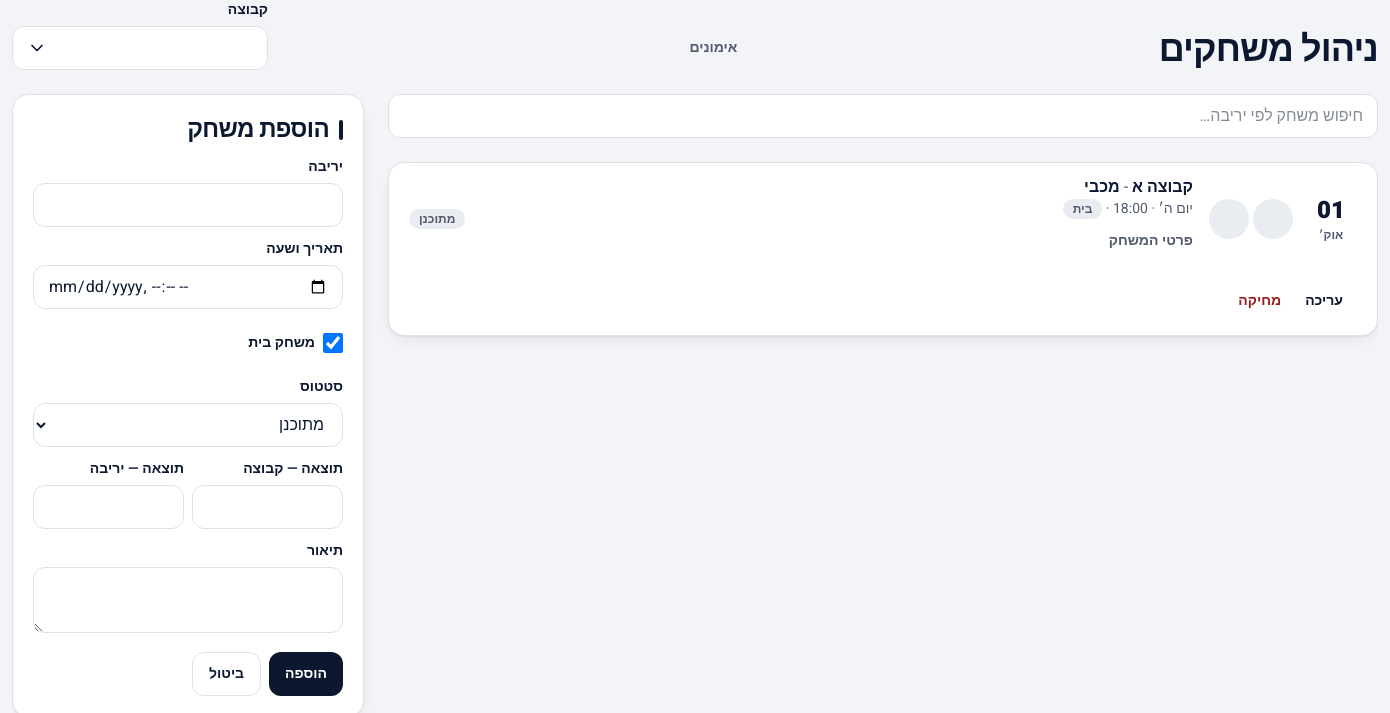
Test case: AdminGamesView › clicking edit, changing a field and submitting PATCHes and updates the list
Click the button "עריכה" at [1324, 301], box [1295,279,1353,323]
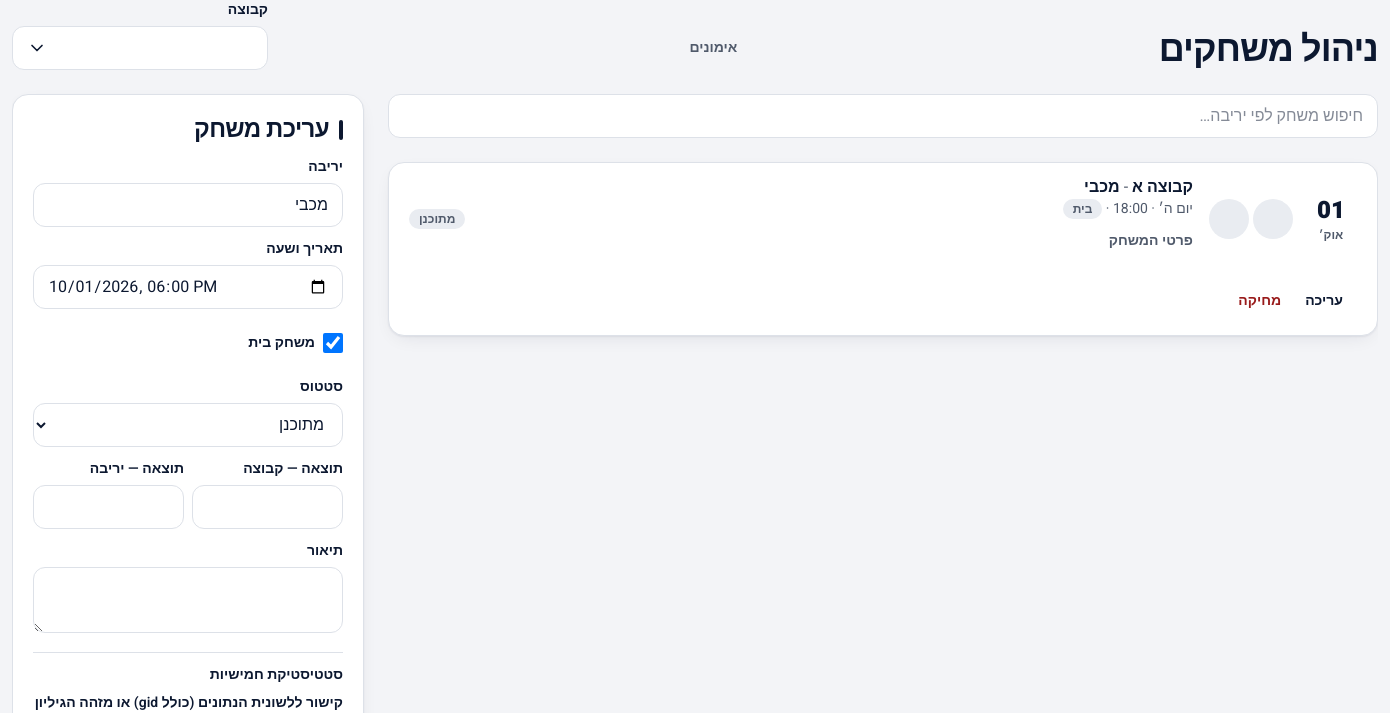
Select "הסתיים" in the dropdown with id "game-status" at [188, 425], box [33,403,343,447]
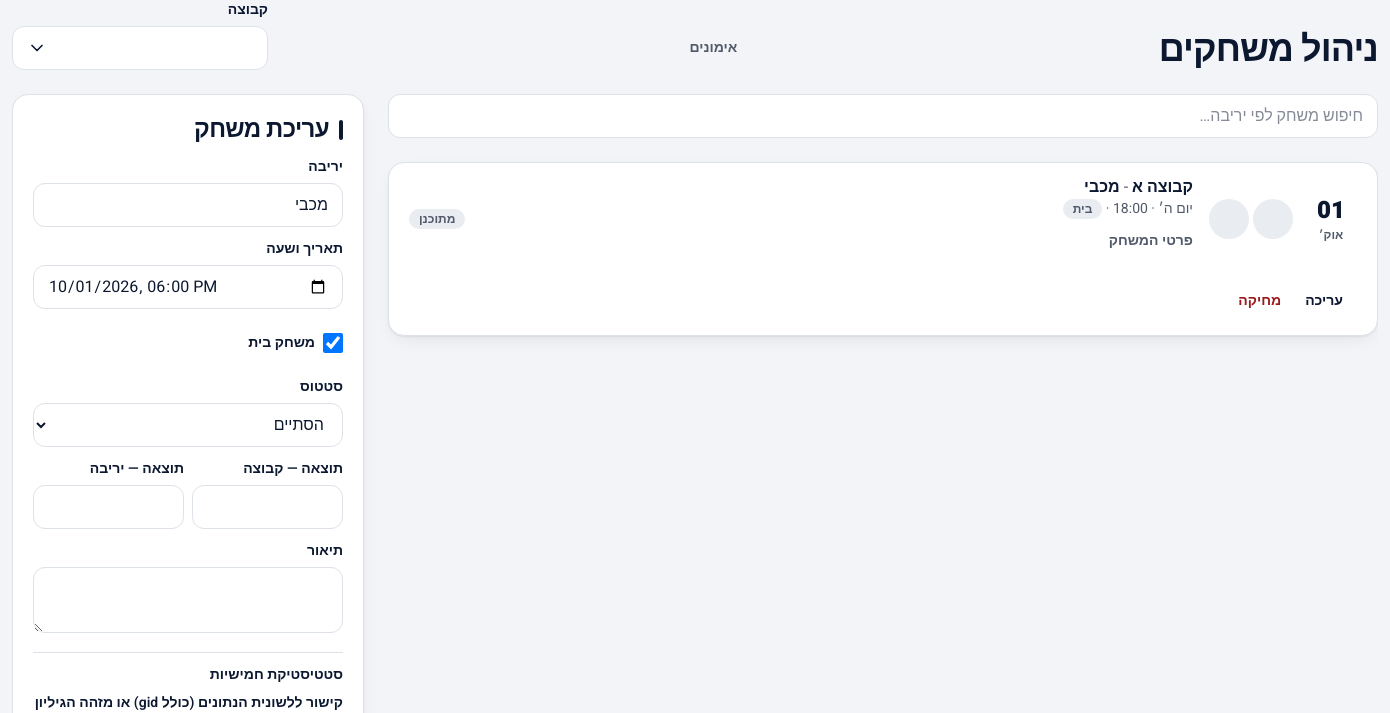
Type "80" into the number field with id "game-team-score" at [268, 507], box [192,485,343,529]
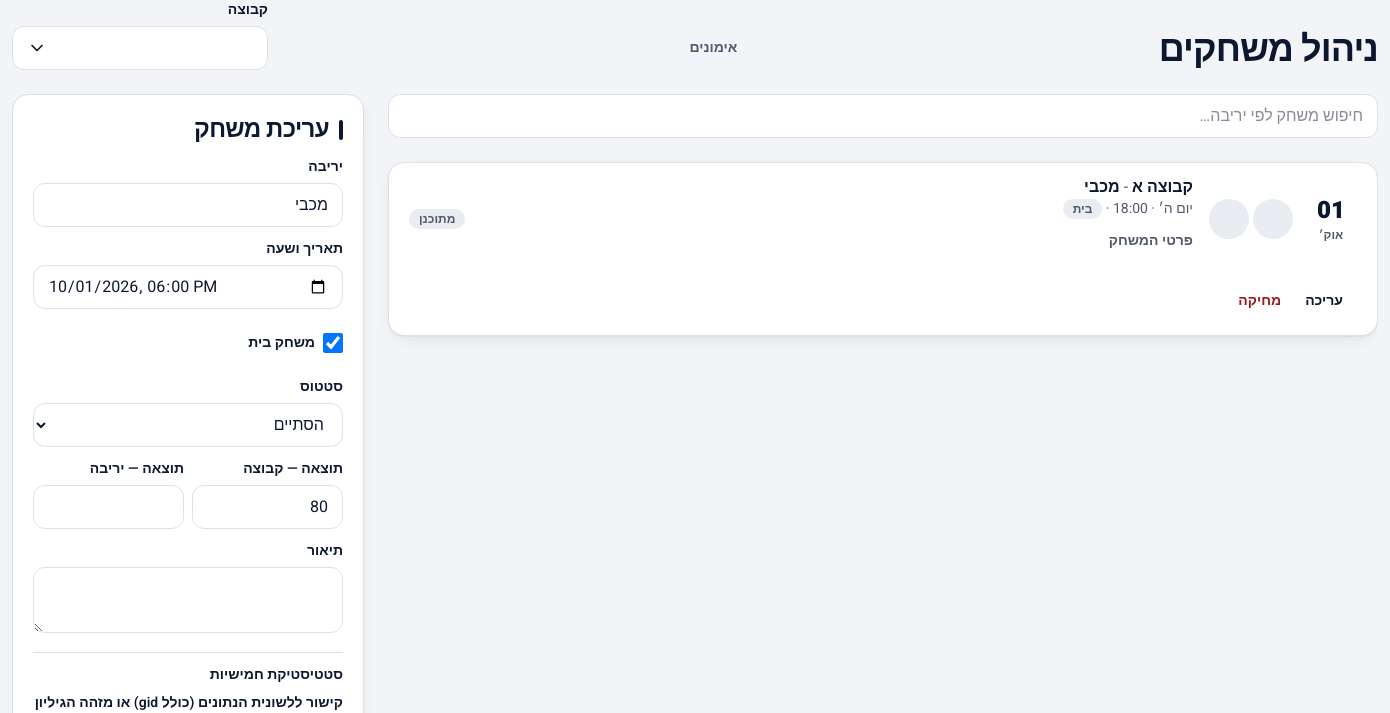
Type "70" into the number field with id "game-opponent-score" at [108, 507], box [33,485,184,529]
(page scrolled)
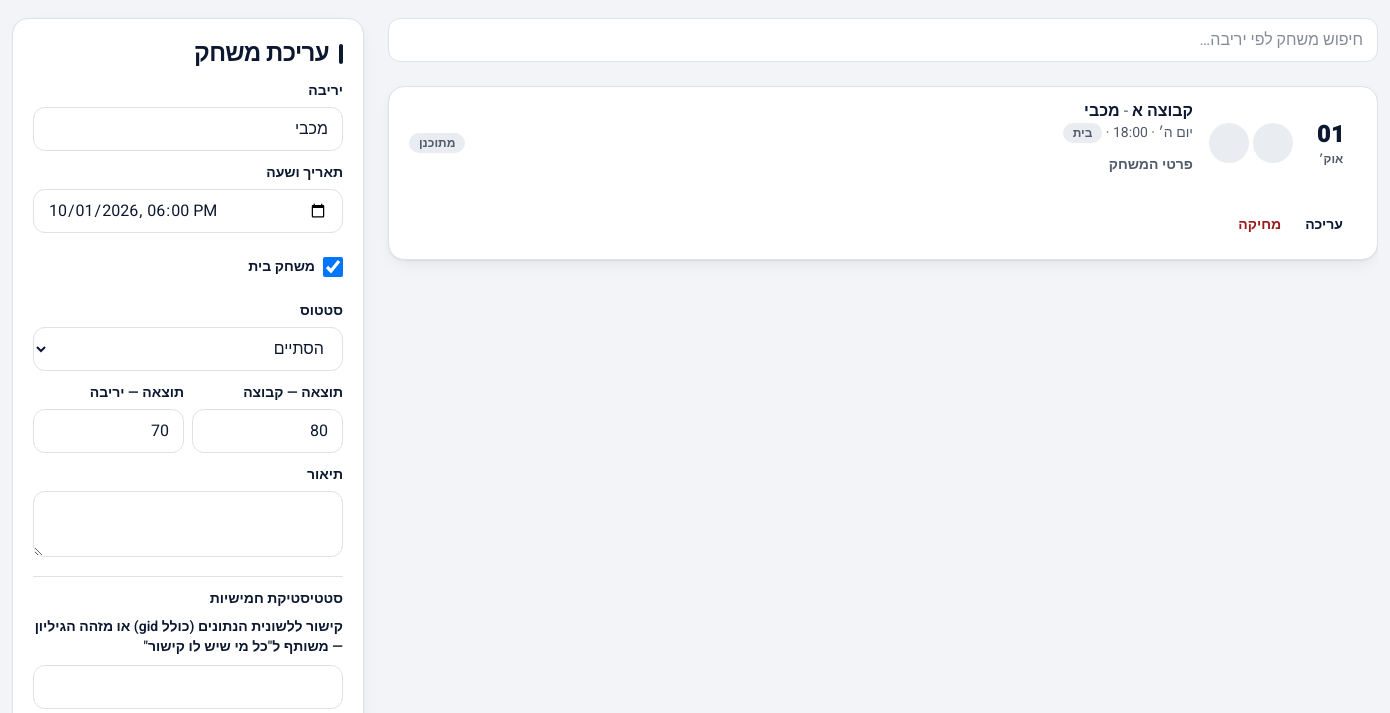
Submit the form
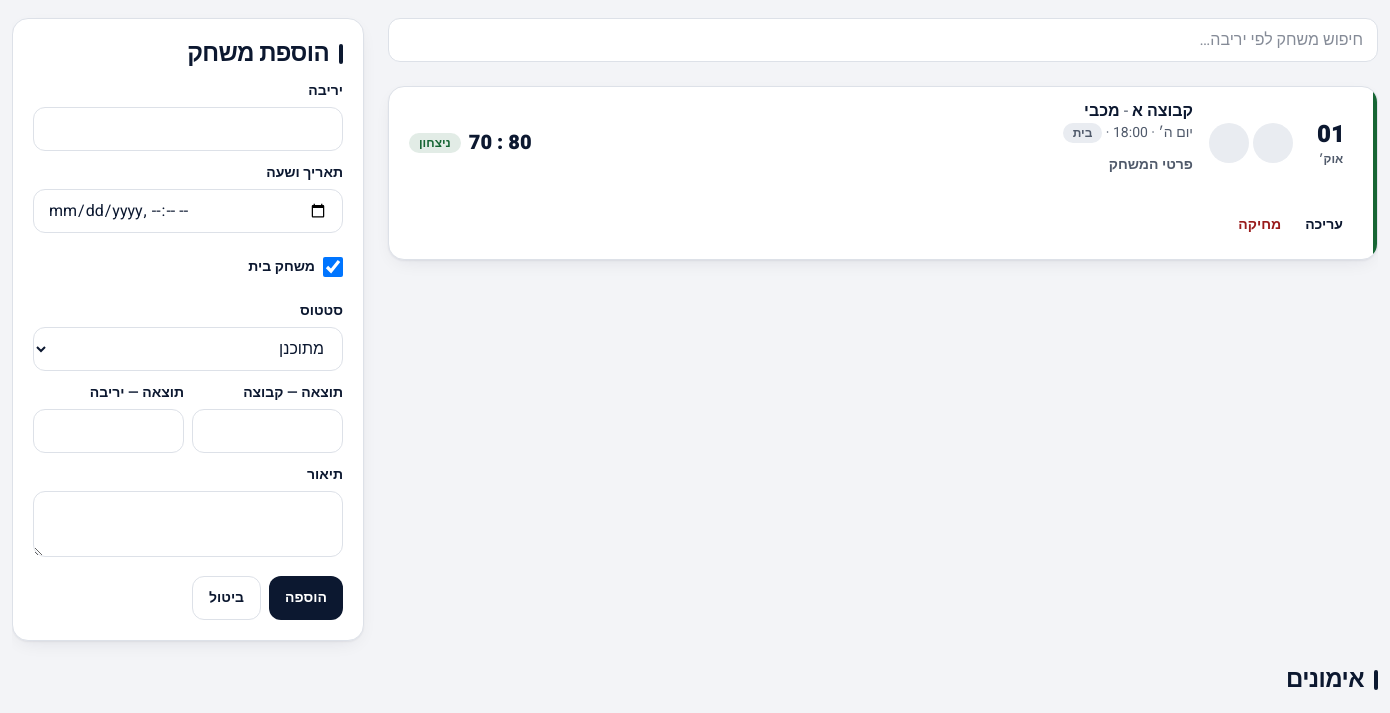
Now the text "80" is shown, box [469,128,532,157]
